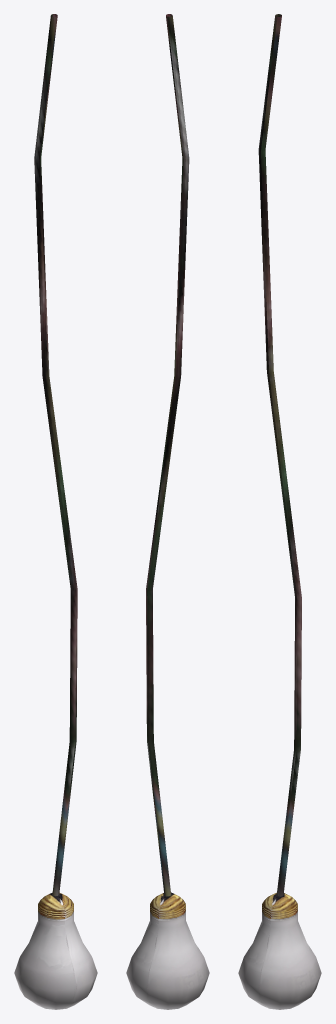
The model's file is lightbulb.FBX.
3 views of the same model, side by side, from view 1: azimuth 30°, elevation 25°; view 2: azimuth 150°, elevation 25°; view 3: azimuth 330°, elevation 25° (orthographic).
Parts seen in each view (by area): view 1: lightbulb; view 2: lightbulb; view 3: lightbulb.
Part boxes in pixels (x1,y1,x2,y2): lightbulb: [14, 14, 97, 1009]; lightbulb: [126, 14, 209, 1009]; lightbulb: [238, 14, 321, 1009].
Bounding box in the file's own units: 4.22 × 55.22 × 4.22.
